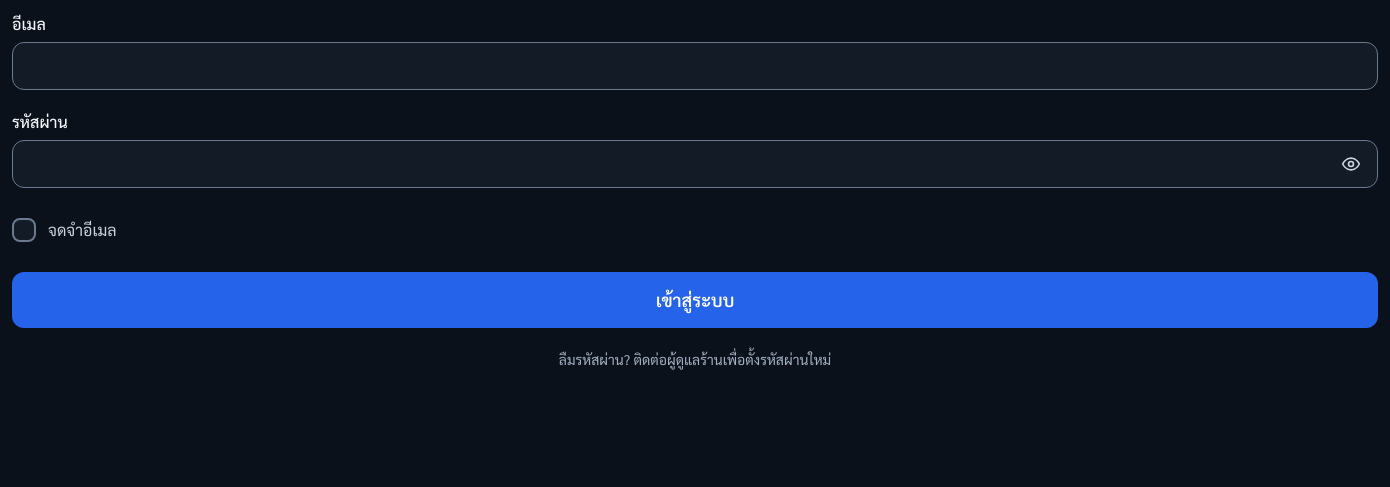
Test: LoginForm › on wrong details clears the password and puts the cursor there (UF-AUTH-01)
In the field labelled "อีเมล": (695, 66) [29,43,1361,89], type "owner@example.com"
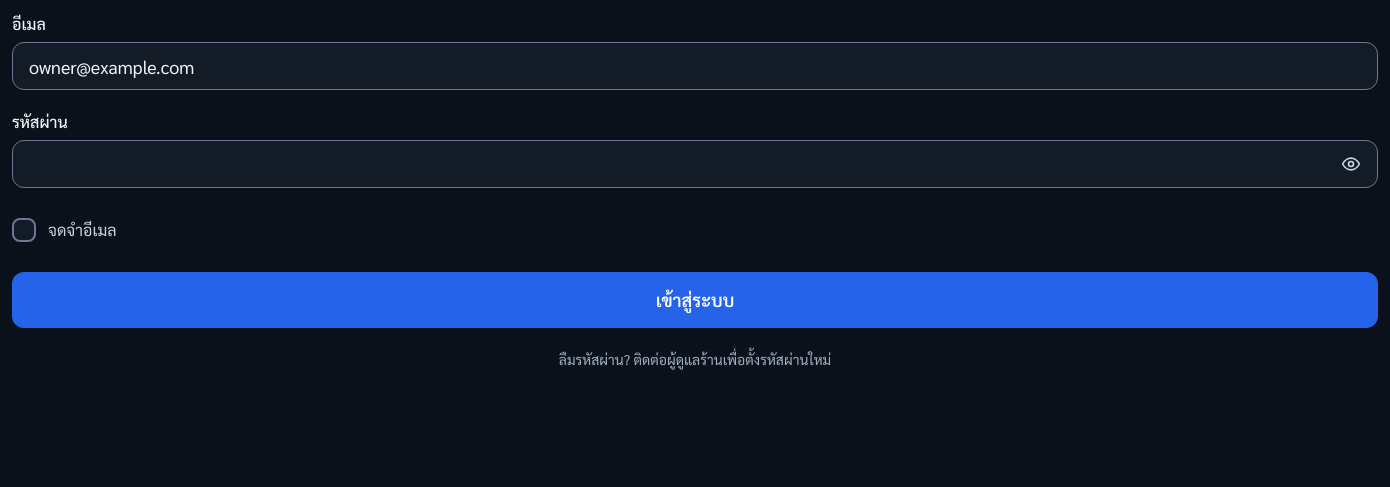
In the password field labelled "รหัสผ่าน": (675, 164) [29,141,1321,187], type "wrong"
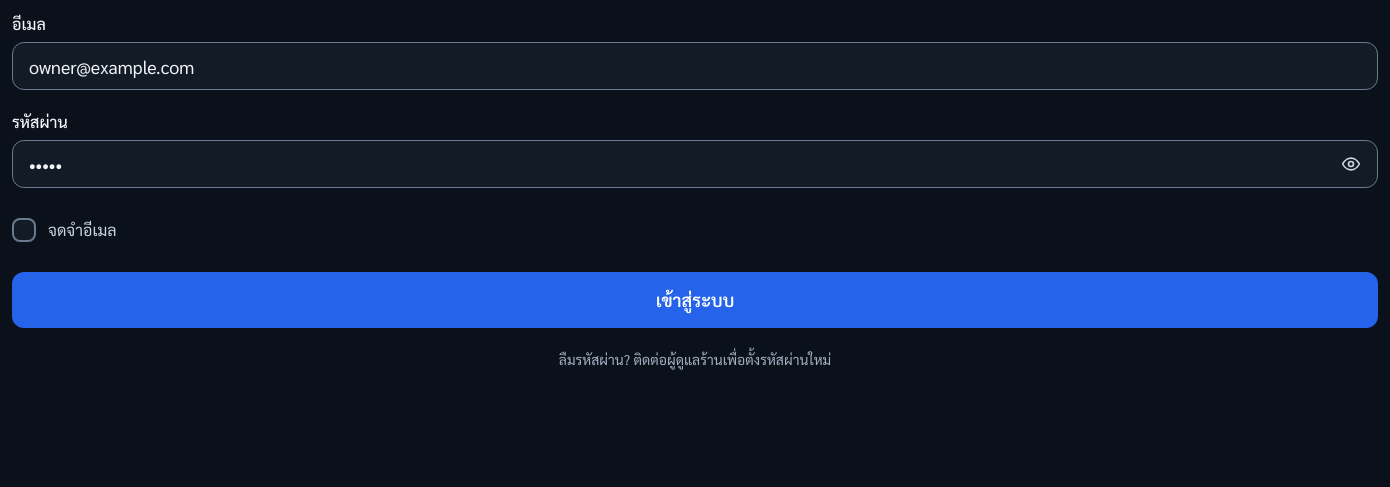
Click the button "เข้าสู่ระบบ": (695, 300) [12,272,1378,328]
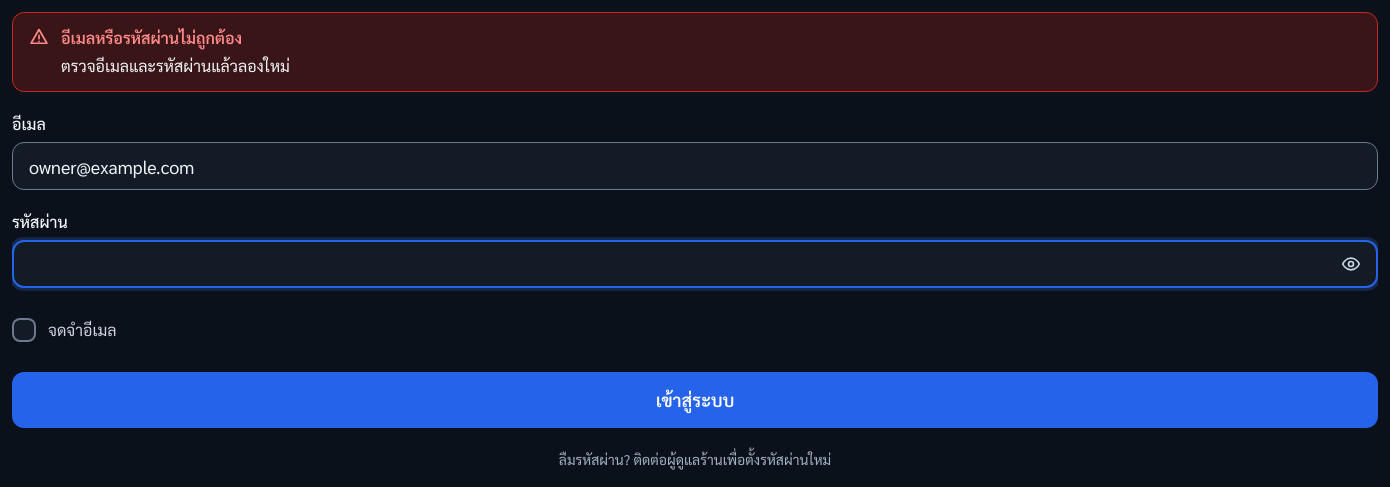
Now the message shows "อีเมลหรือรหัสผ่านไม่ถูกต้อง", box [61,27,242,48]
Now the password field labelled "รหัสผ่าน" is empty, box [29,242,1321,286]
